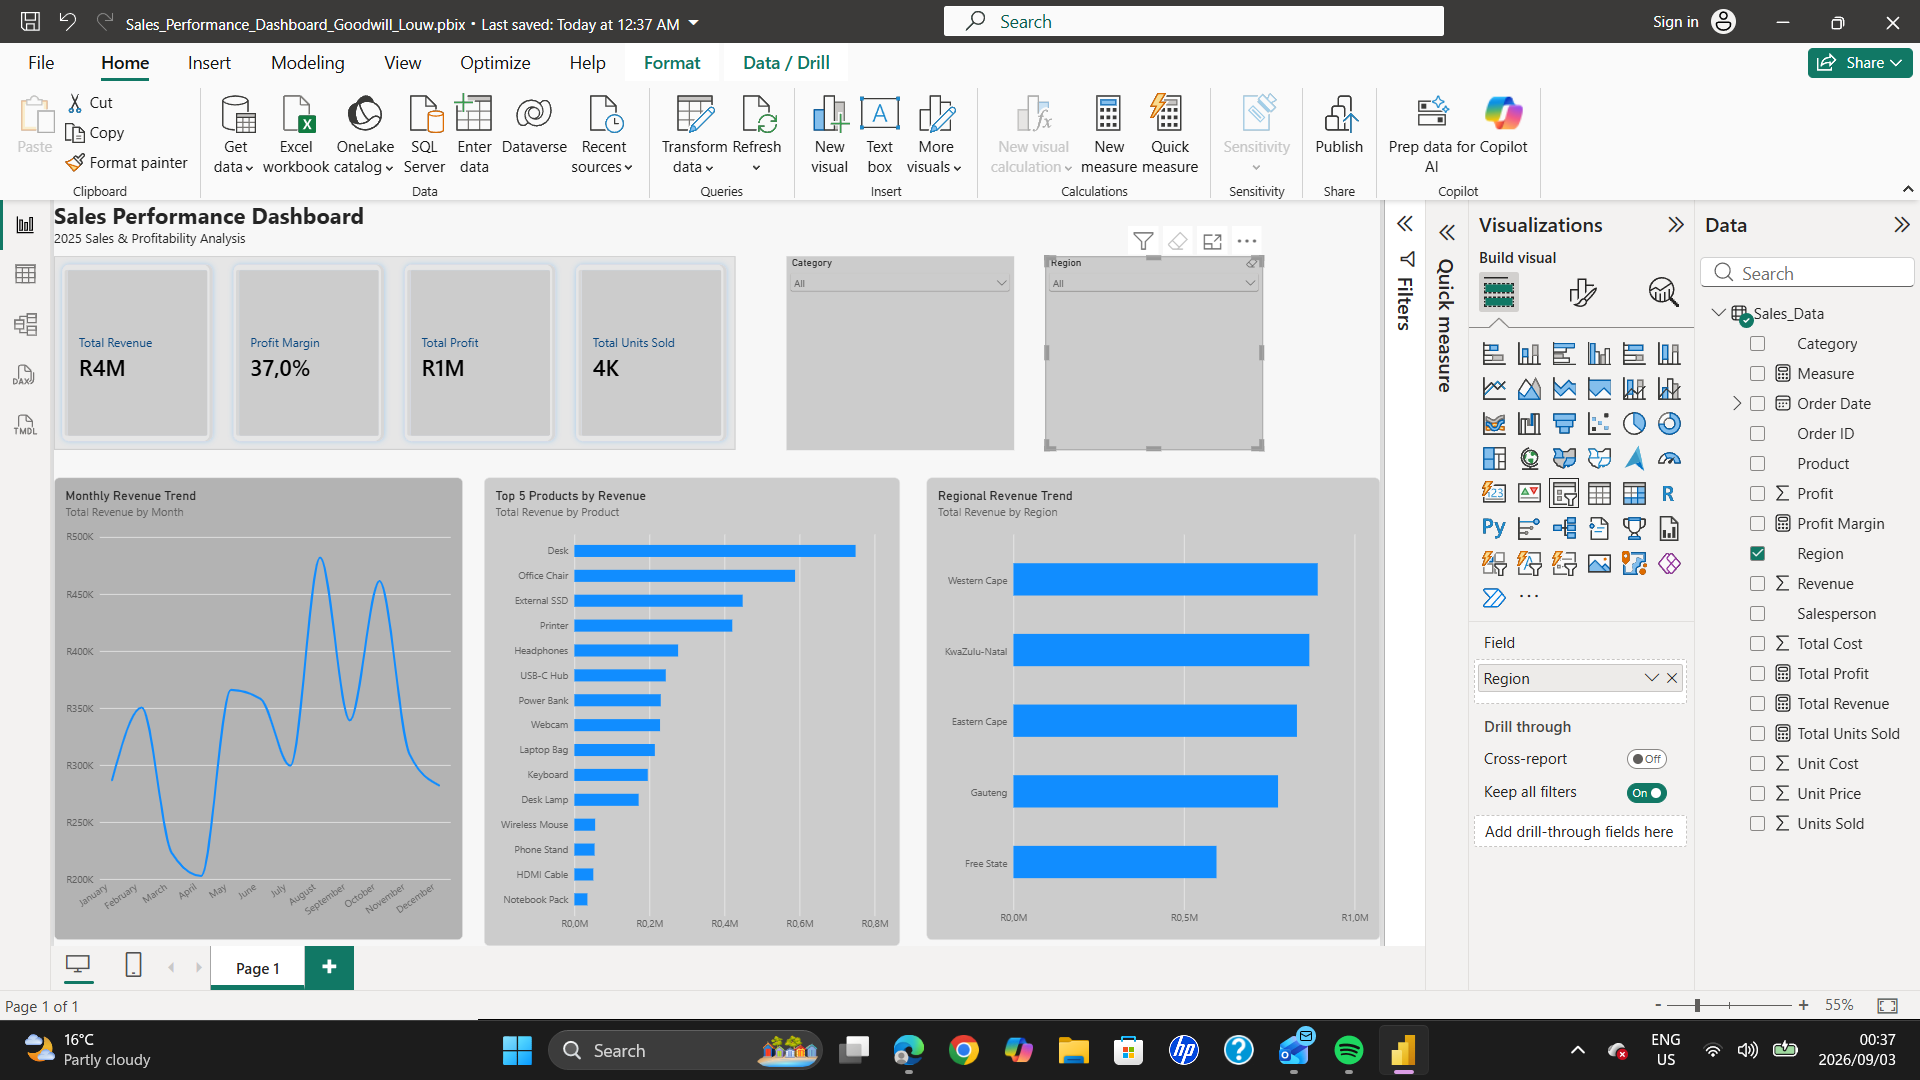

The dashboard page shown, as its layout file describes it:
{"tool":"powerbi","page":{"name":"Page 1","canvas":[1920,1080],"ordinal":0},"visuals":[{"type":"cardVisual","fields":{"Data":["Sales_Data.Total Revenue","Sales_Data.Profit Margin","Sales_Data.Total Profit","Sales_Data.Total Units Sold"]},"box":[0,81.2,988.1,280.5],"z":0},{"type":"lineChart","title":"Monthly Revenue Trend","fields":{"Category":["Sales_Data.Order Date.Variation.Date Hierarchy.Year","Sales_Data.Order Date.Variation.Date Hierarchy.Quarter","Sales_Data.Order Date.Variation.Date Hierarchy.Month","Sales_Data.Order Date.Variation.Date Hierarchy.Day"],"Y":["Sales_Data.Total Revenue"]},"box":[0,401.7,591.8,669.6],"z":1},{"type":"clusteredBarChart","title":"Regional Revenue Trend","fields":{"Category":["Sales_Data.Region"],"Y":["Sales_Data.Total Revenue"]},"box":[1263.1,401.7,656.9,669.6],"z":2},{"type":"clusteredBarChart","title":"Top 5 Products by Revenue","fields":{"Category":["Sales_Data.Product"],"Y":["Sales_Data.Total Revenue"]},"box":[622.5,401.7,602.6,678.6],"z":3},{"type":"slicer","fields":{"Values":["Sales_Data.Region"]},"box":[1435.1,81.4,314.9,280.5],"z":4},{"type":"slicer","fields":{"Values":["Sales_Data.Category"]},"box":[1060.5,81.4,329.4,280.5],"z":5},{"type":"textbox","box":[0,0,470.5,161.1],"z":6}]}

Visuals, with their boxes on the page's 1920x1080 design canvas (x1, y1, x2, y2). These are canvas units, not pixel positions in the 1920x1080 screenshot, which may show the page scaled, cropped or inside an application window:
cardVisual - Sales_Data.Total Revenue x Sales_Data.Profit Margin: (left=0, top=81, right=988, bottom=362)
"Monthly Revenue Trend" lineChart: (left=0, top=402, right=592, bottom=1071)
"Regional Revenue Trend" clusteredBarChart: (left=1263, top=402, right=1920, bottom=1071)
"Top 5 Products by Revenue" clusteredBarChart: (left=622, top=402, right=1225, bottom=1080)
slicer - Sales_Data.Region: (left=1435, top=81, right=1750, bottom=362)
slicer - Sales_Data.Category: (left=1060, top=81, right=1390, bottom=362)
textbox: (left=0, top=0, right=470, bottom=161)
